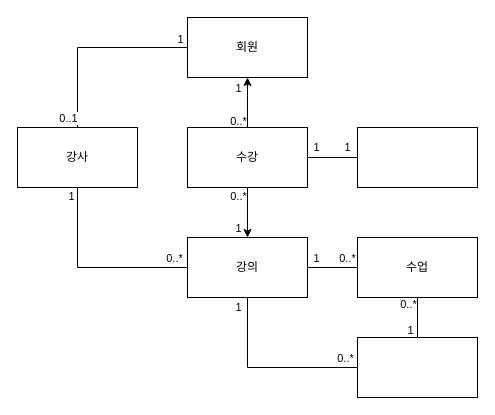
Some shapes in this 495 by 415 pixel diagram are drawn without their labels. The box of each missing label's shape, as (x1, y1, x2, y2) in pixels:
섹션: (356, 336, 478, 398)
진도: (356, 126, 478, 188)
